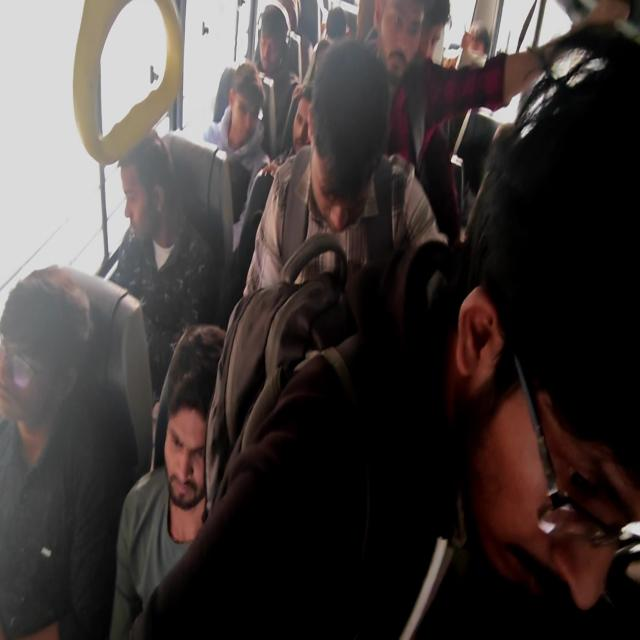person: (124, 26, 639, 636), (455, 25, 639, 635), (241, 38, 449, 303), (370, 0, 554, 241), (0, 264, 116, 638), (109, 322, 226, 638), (107, 129, 217, 399), (204, 60, 272, 249), (252, 3, 301, 159)
